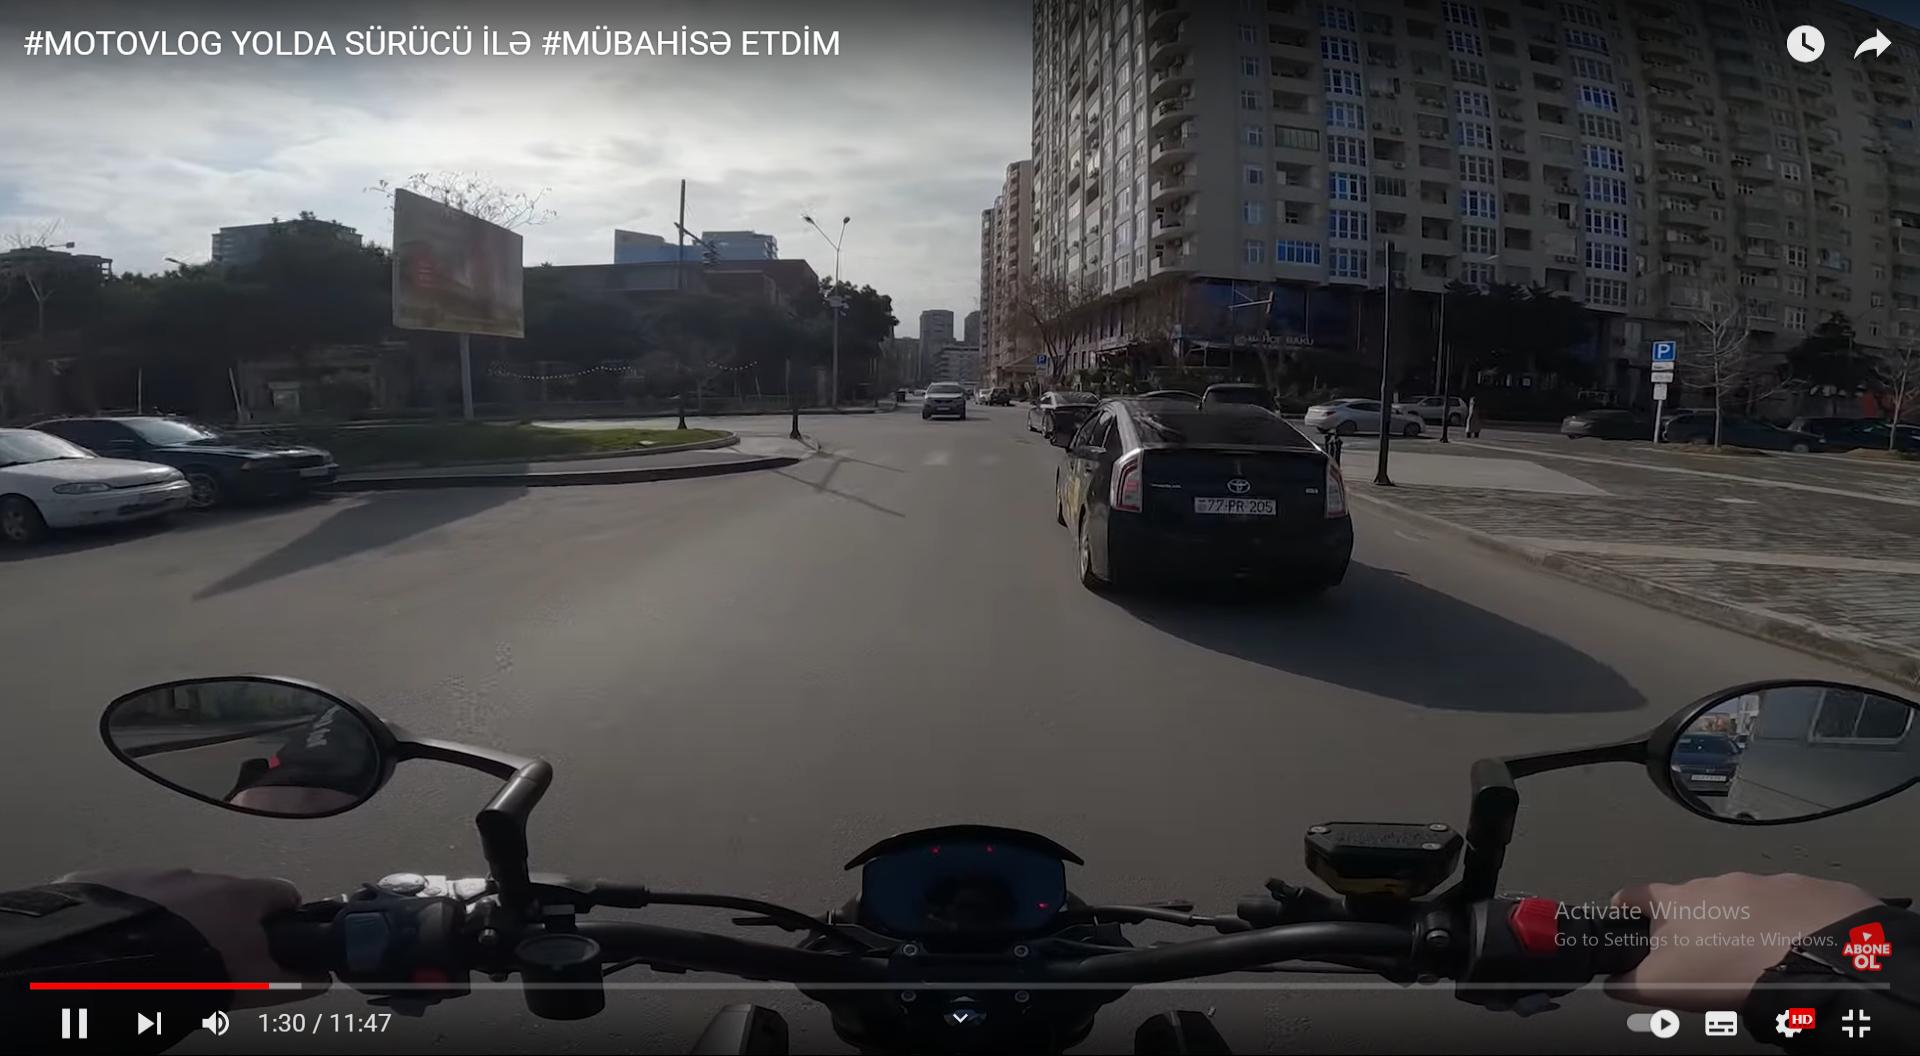banner: (367, 182, 547, 367)
